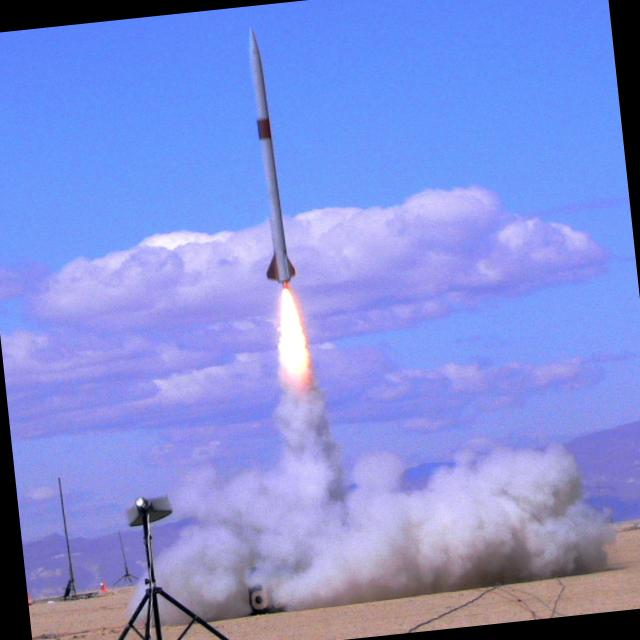rocket: (242, 25, 313, 393)
